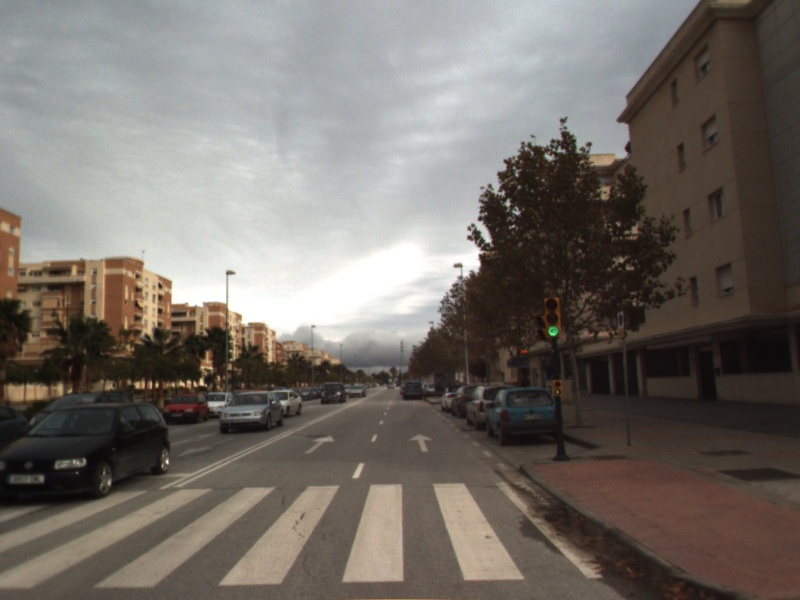STRAIGHT: (302, 433, 337, 456), (407, 431, 435, 454)
